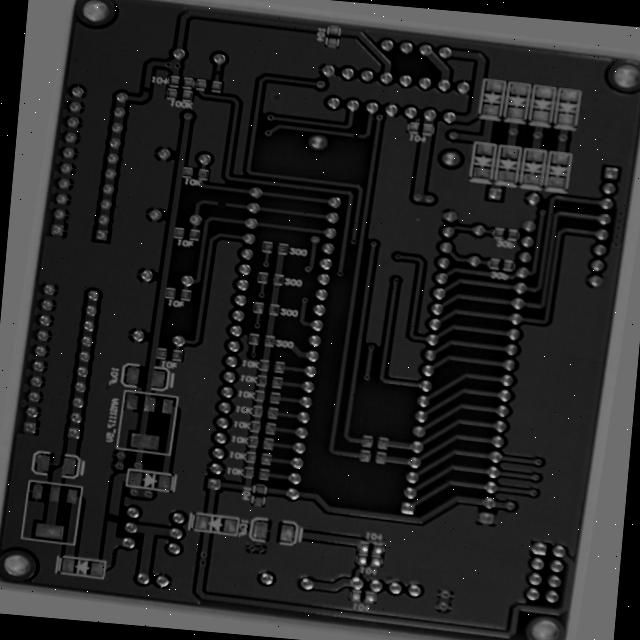open_circuit: (106, 526, 123, 544), (199, 196, 213, 209), (111, 82, 125, 94), (337, 122, 352, 131), (187, 61, 198, 73)
